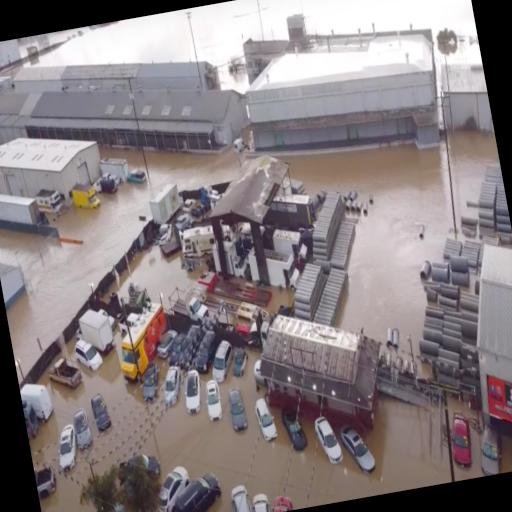flood: (29, 333, 450, 512), (0, 146, 238, 371), (285, 137, 453, 346), (259, 0, 482, 61), (39, 9, 193, 63), (189, 0, 260, 90), (448, 128, 499, 230), (131, 245, 190, 307), (266, 284, 293, 311)
house: (2, 10, 255, 192), (234, 20, 445, 174), (248, 294, 386, 442), (453, 237, 512, 451), (0, 120, 103, 210), (434, 54, 496, 148)
